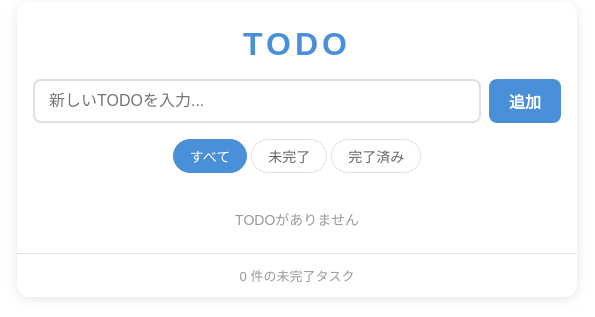
Test: TodoApp › TODO完了切り替え › チェックボックスをクリックすると完了状態が切り替わる
In the field with placeholder "新しいTODOを入力...": coordinates (257, 101) [33,79,481,123], type "完了テスト"
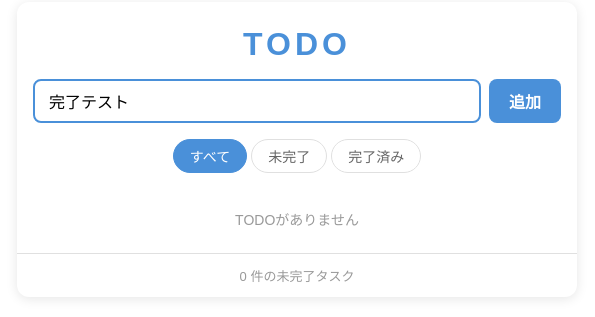
Click the button "追加": coordinates (525, 101) [489,79,561,123]
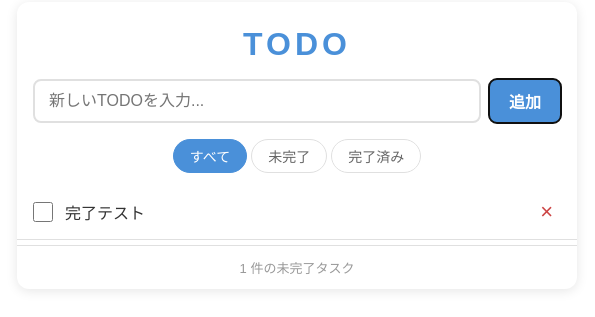
Now the checkbox is not checked
Click the checkbox: coordinates (43, 212) [33,202,53,222]
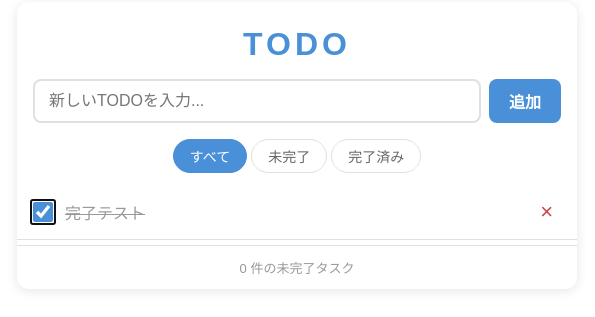
Now the checkbox is checked, box [33,202,53,222]
Now the text "0 件の未完了タスク" is shown, box [240,261,354,276]
